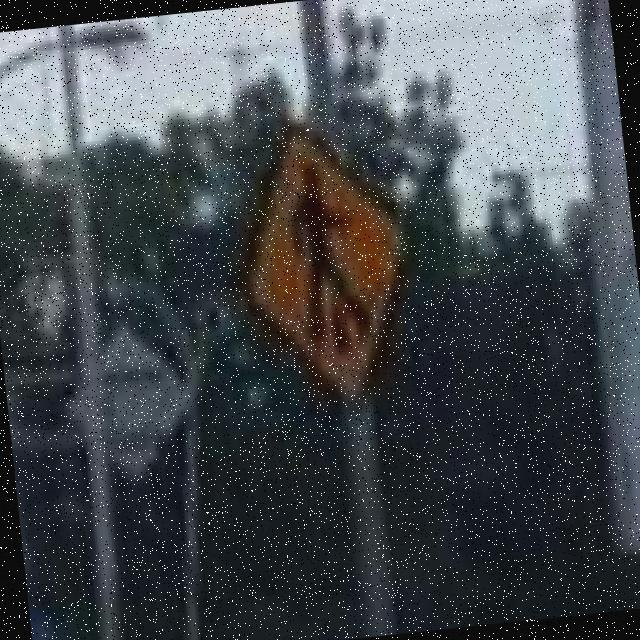Przejscie dla pieszych: (236, 113, 422, 404)
